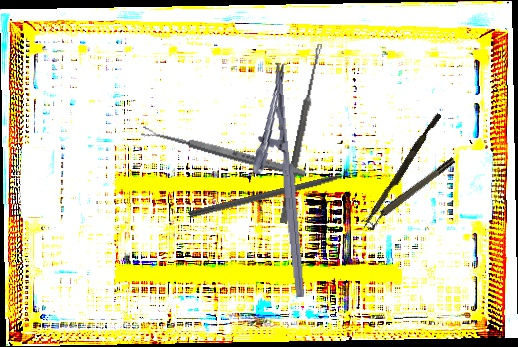Fixation Ring: (361, 155, 460, 233)
Hook Surgical: (188, 168, 362, 221)
Needle Holder: (242, 62, 307, 301)
Pusher: (361, 111, 442, 232)
Surgical Spoon: (140, 124, 307, 180), (279, 42, 324, 225)
